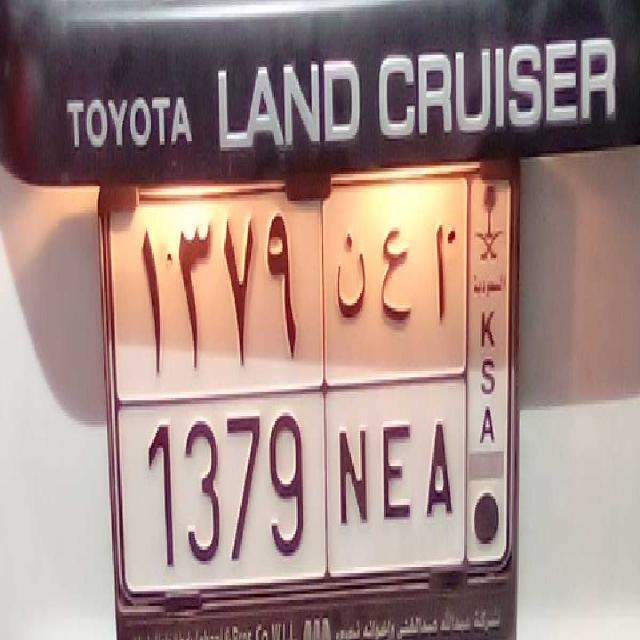license_plate: (122, 375, 463, 576)
